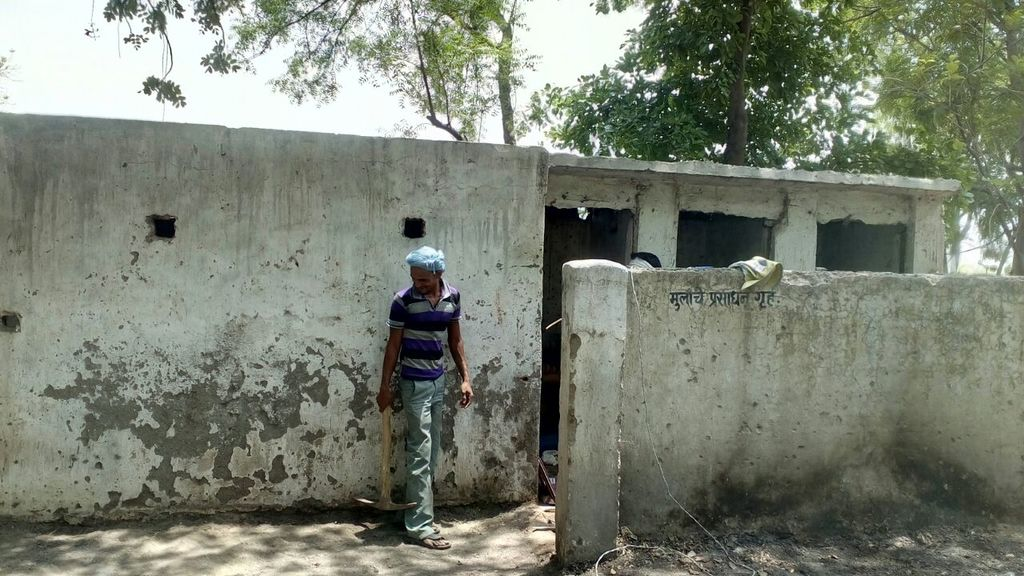Tree: (83, 0, 1024, 278)
